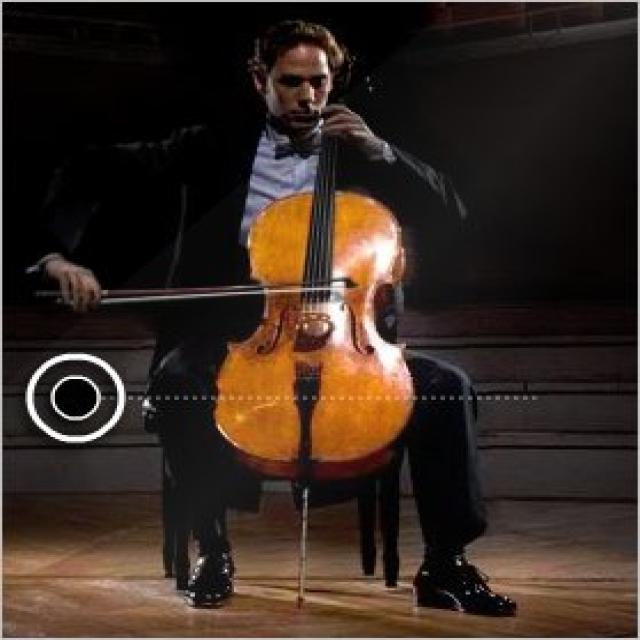cello: (211, 52, 419, 486)
